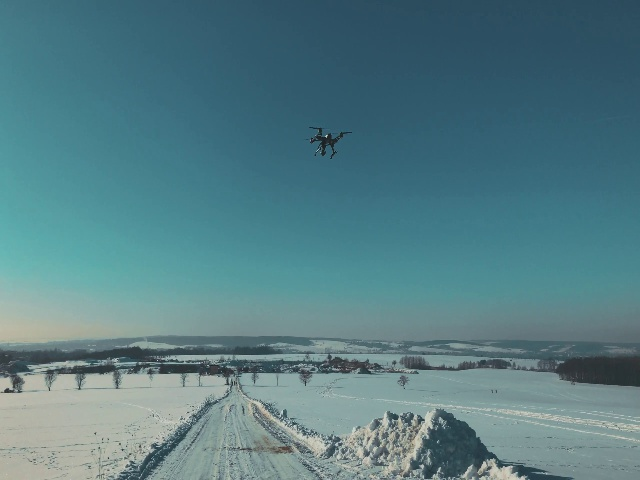drone: (302, 125, 353, 162)
